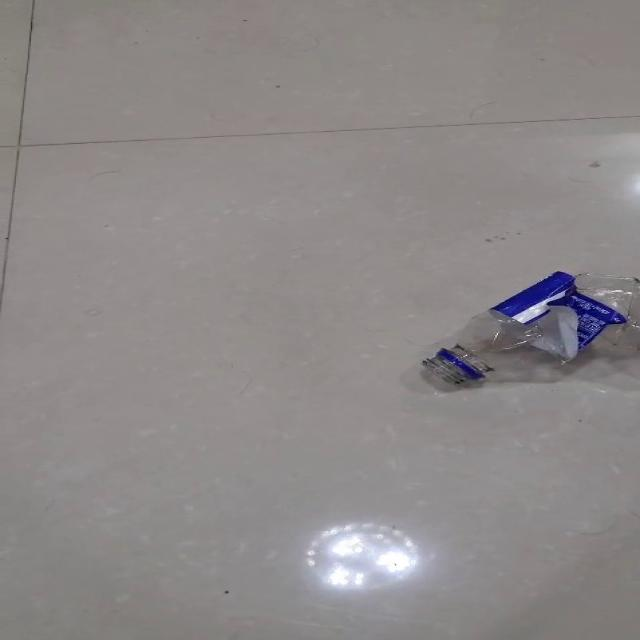plastic: (419, 270, 637, 388)
